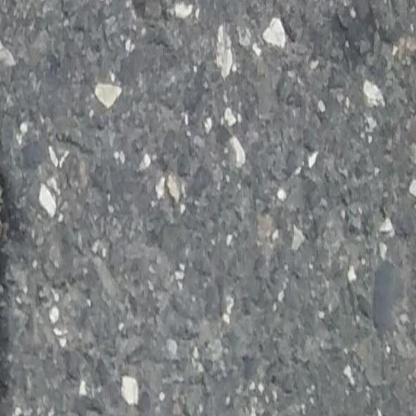Cracks: (0, 119, 31, 416)
